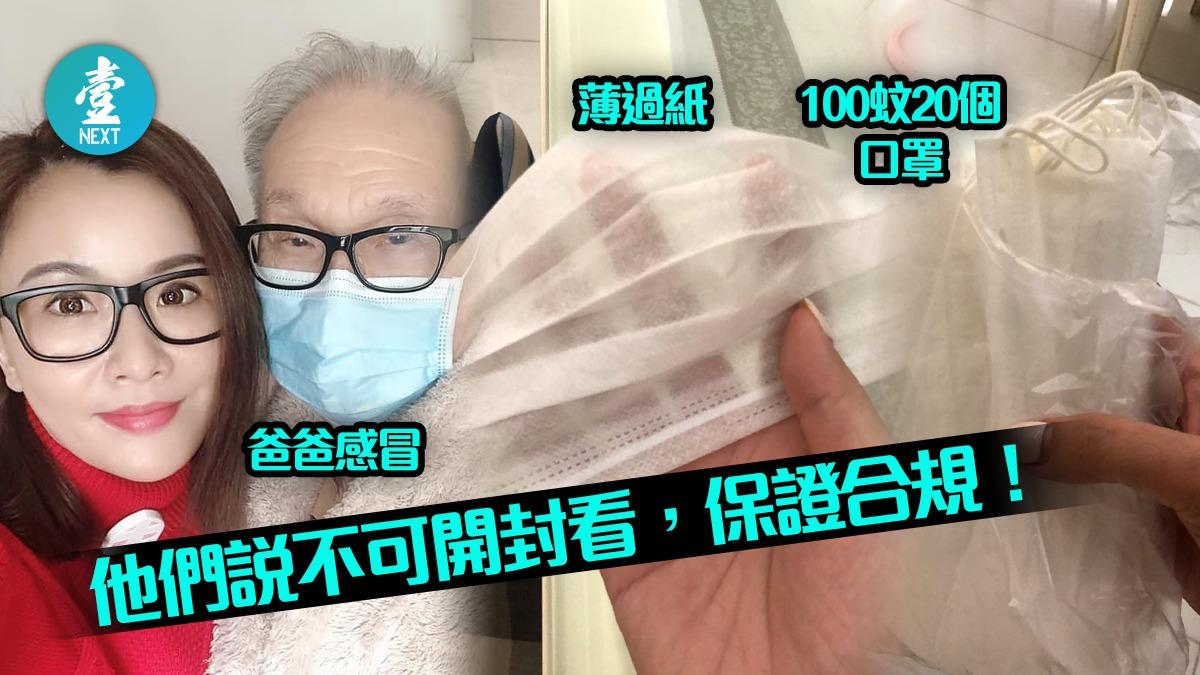mask: (240, 173, 457, 422)
none: (10, 247, 223, 483)
